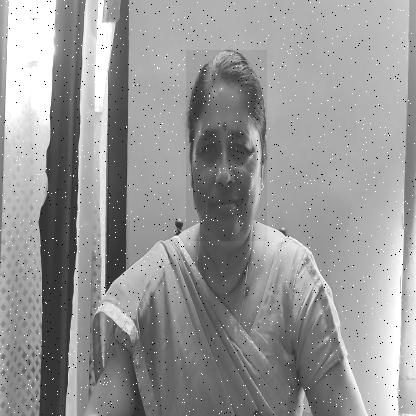Normal: (186, 50, 267, 241)
